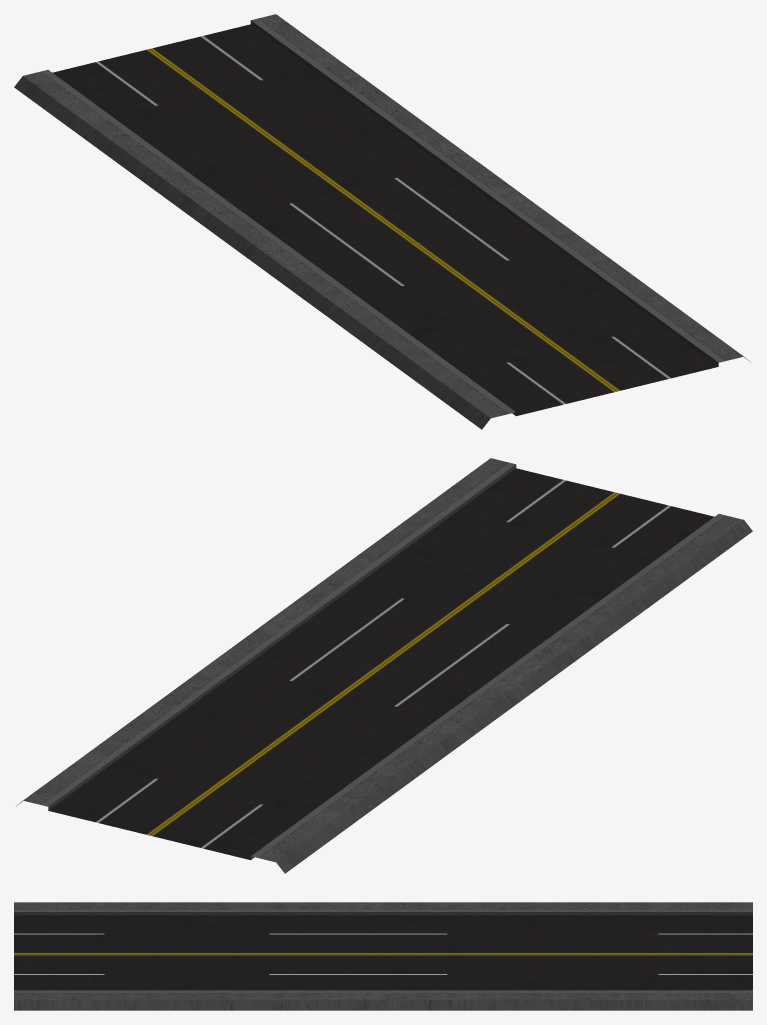
The model's file is RJs_Road Slim 2+2 Basic Segment.fbx.
The picture shows the model from 3 angles, top to bottom: view 1: azimuth 30°, elevation 25°; view 2: azimuth 150°, elevation 25°; view 3: azimuth 270°, elevation 25°; orthographic projection. The views are drawn at different scales.
Parts seen in each view (by area): view 1: plane; view 2: plane; view 3: plane.
Part boxes in pixels (x1,y1,x2,y2): plane: (14,14,750,429); plane: (16,458,752,873); plane: (14,902,752,1010).
Size of the model in its own units: 2140 by 70 by 6400.
